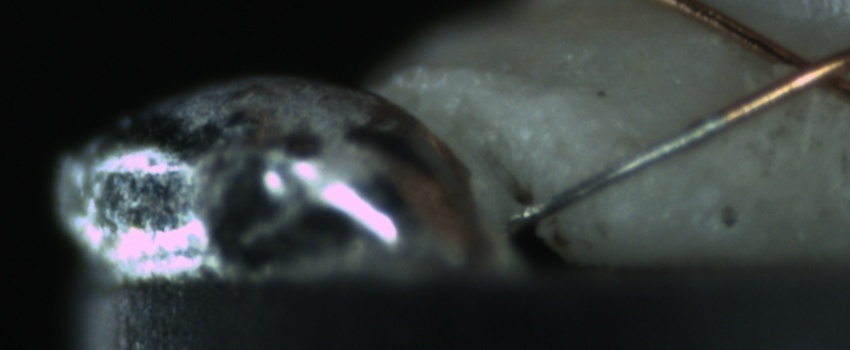CL: (756, 35, 847, 103)
TS: (525, 114, 727, 224)
